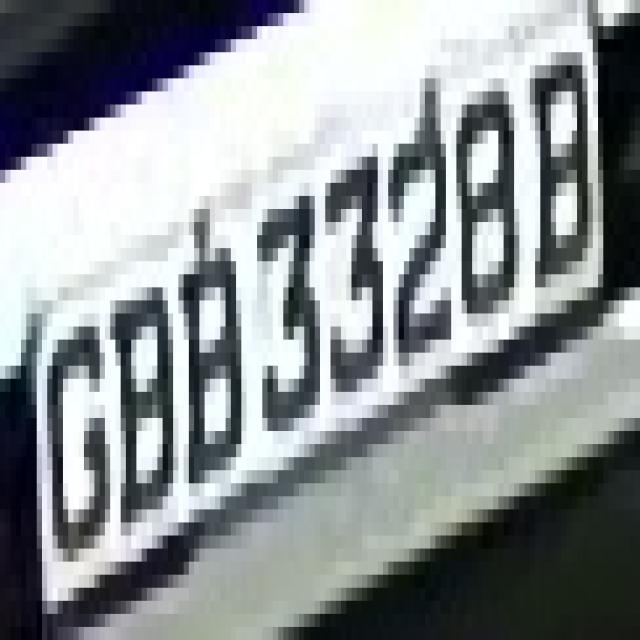2: (367, 91, 451, 418)
3: (231, 157, 325, 457), (310, 117, 388, 405)
8: (451, 39, 519, 327)
B: (525, 13, 598, 353), (168, 235, 252, 496), (94, 262, 178, 522)
G: (32, 300, 110, 588)
